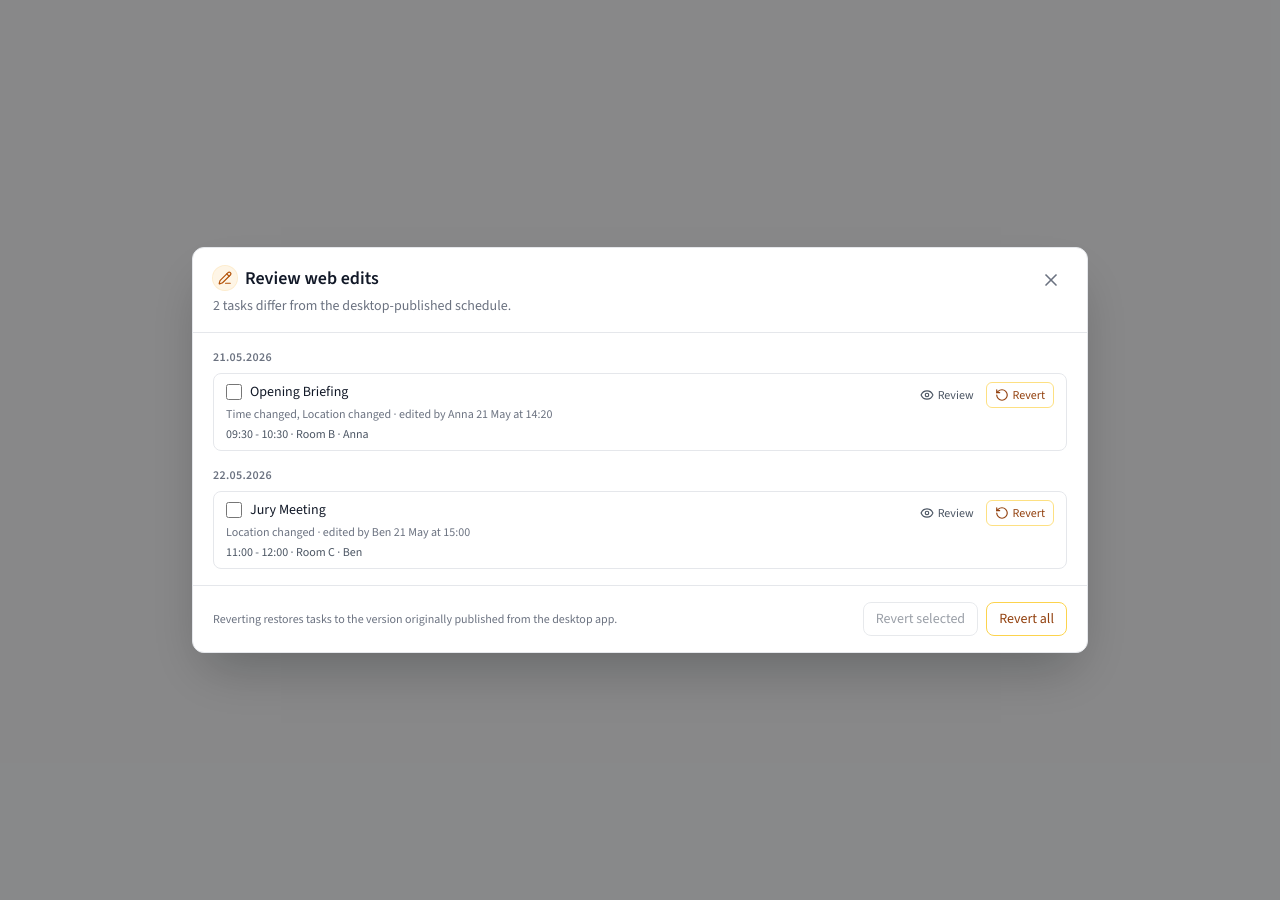
WebEditReviewModal › shows grouped committed web edits and comparison details
This screenshot has width=1280, height=900.
Expected: the heading "21.05.2026" is shown, top-left (213, 349), bottom-right (272, 365)
Expected: the heading "22.05.2026" is shown, top-left (213, 467), bottom-right (272, 483)
Click the button "Review" in the row of "Opening Briefing".
click(947, 395)  # box top-left (912, 382), bottom-right (982, 408)
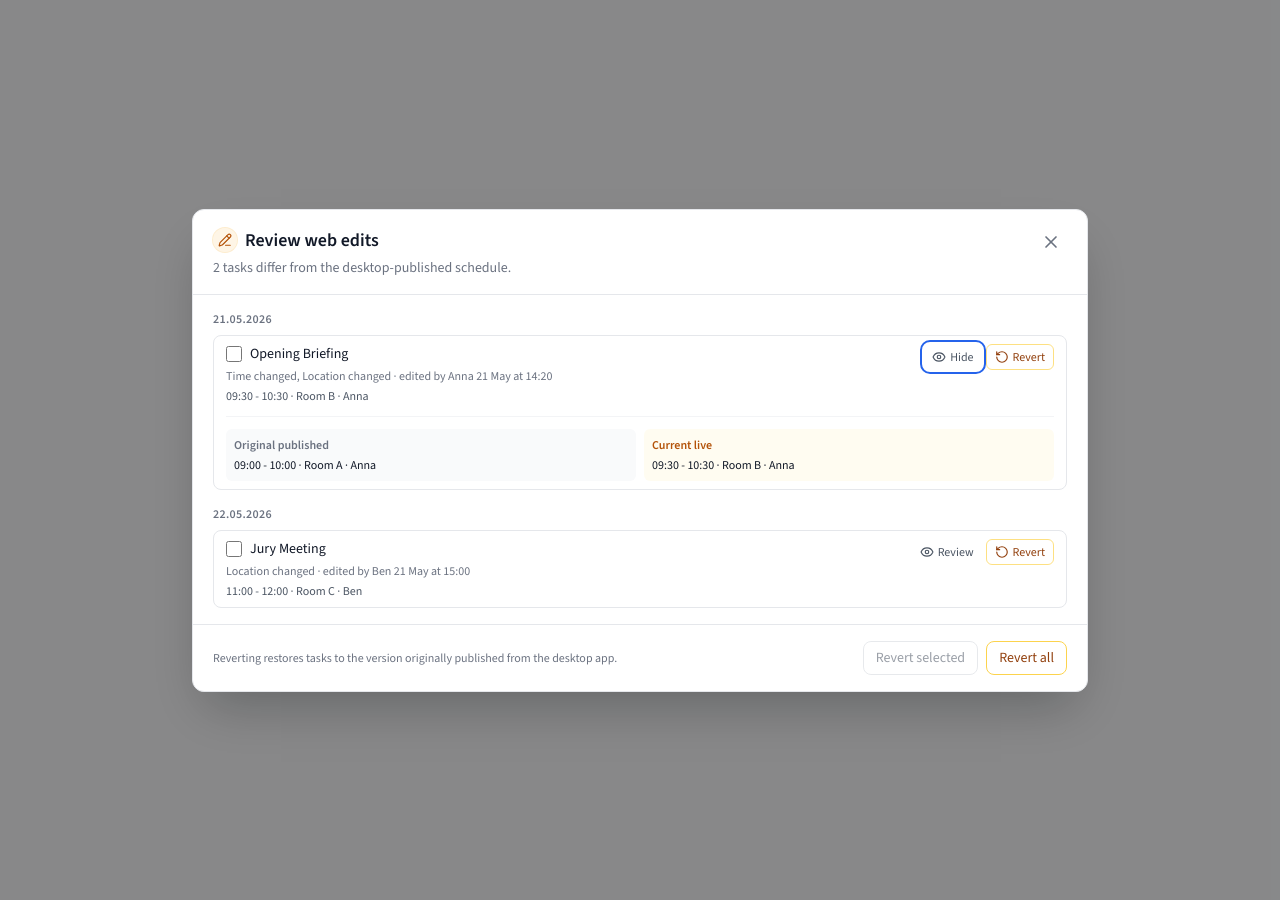
Expected: the text "Original published" is shown, top-left (234, 436), bottom-right (329, 452)
Expected: the text "09:00 - 10:00 · Room A · Anna" is shown, top-left (234, 456), bottom-right (376, 472)
Expected: the text "Current live" is shown, top-left (652, 436), bottom-right (712, 452)
